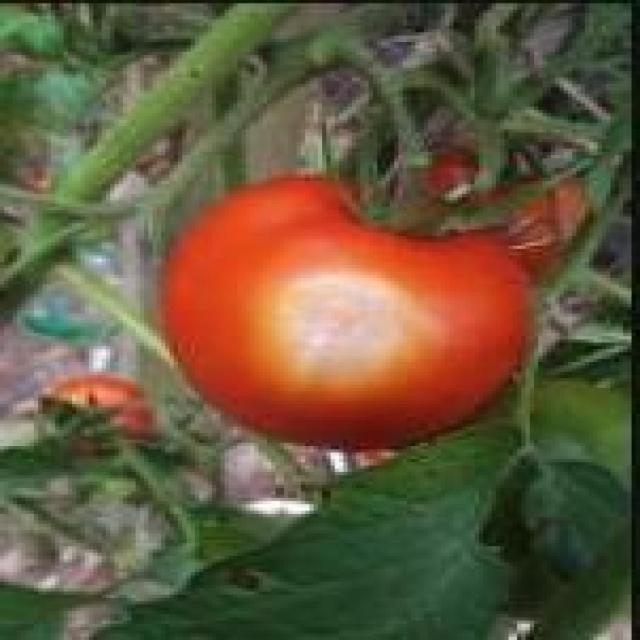Sunscald Fruit: (159, 165, 281, 266)
